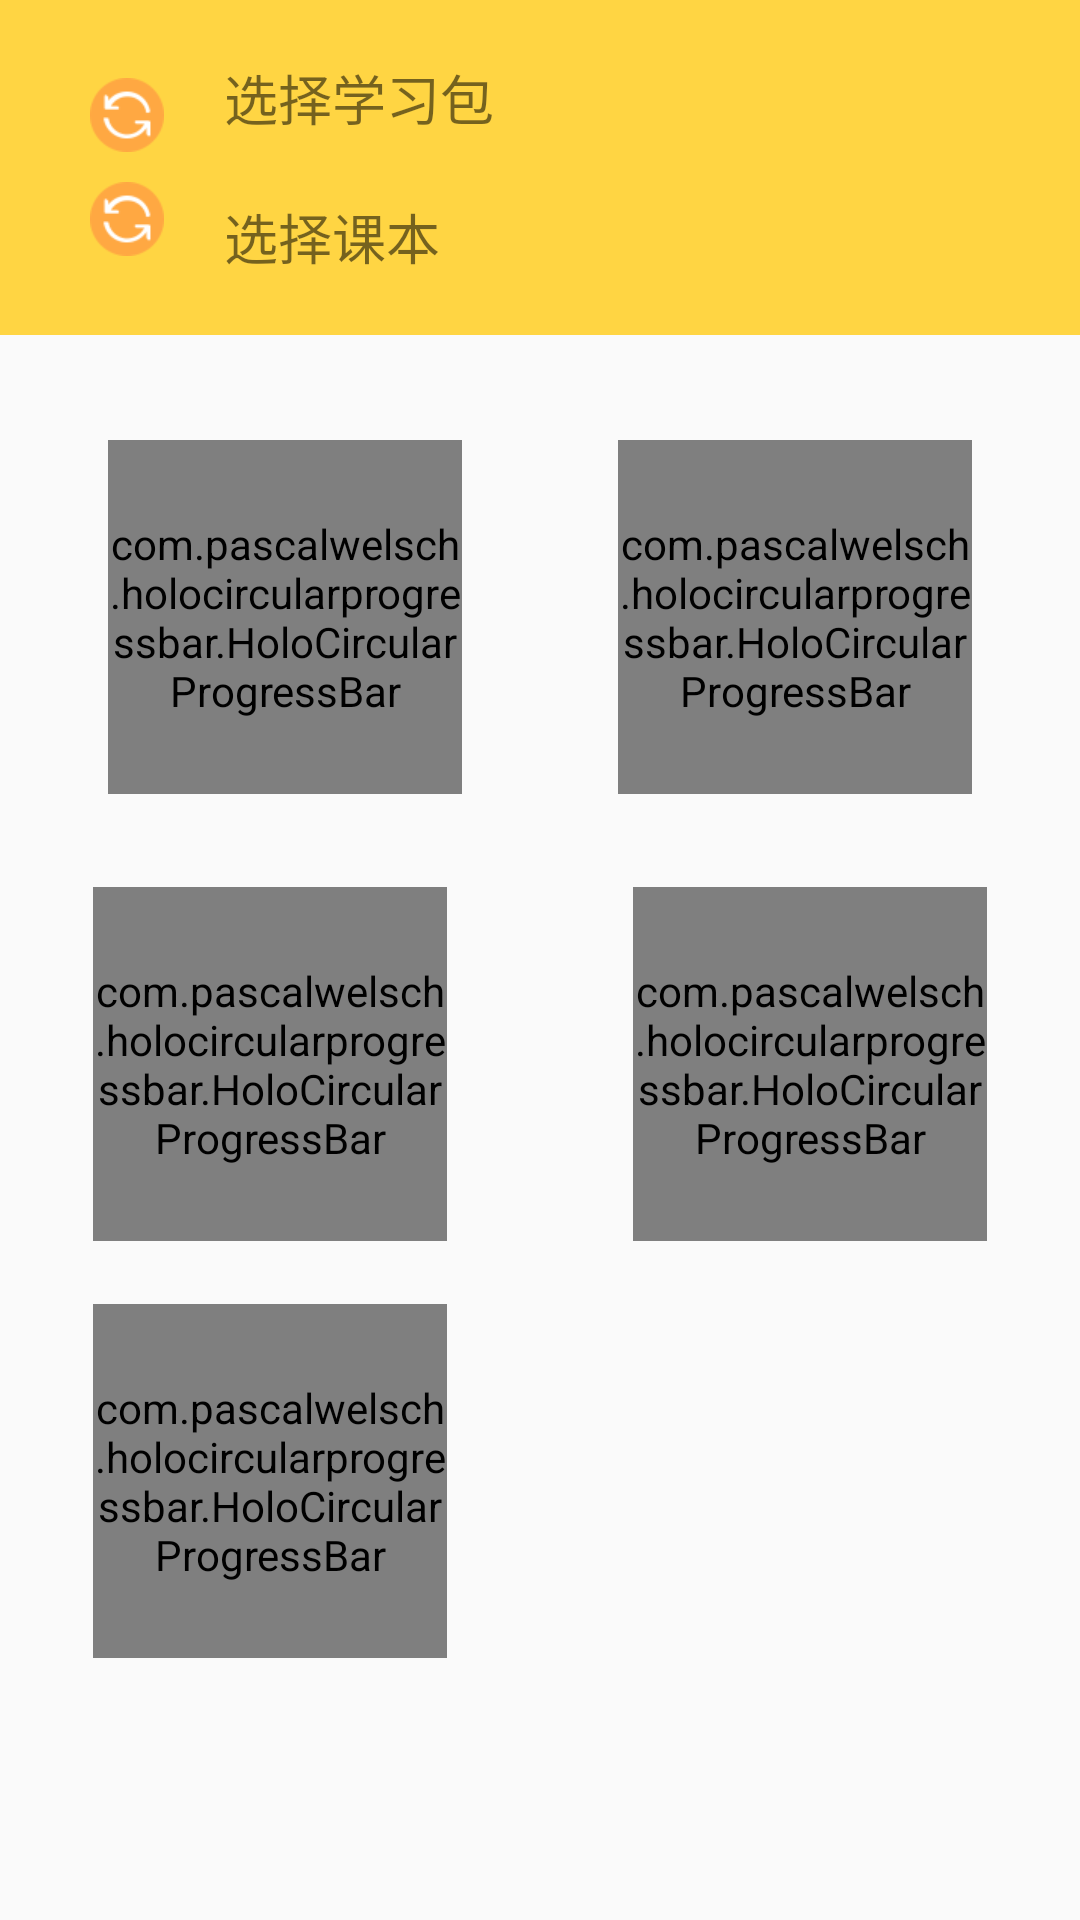

Icons on this 1080px x 1920px Android screen, each with the point to tap as (x,y):
home change: (127,115), (127,219)
